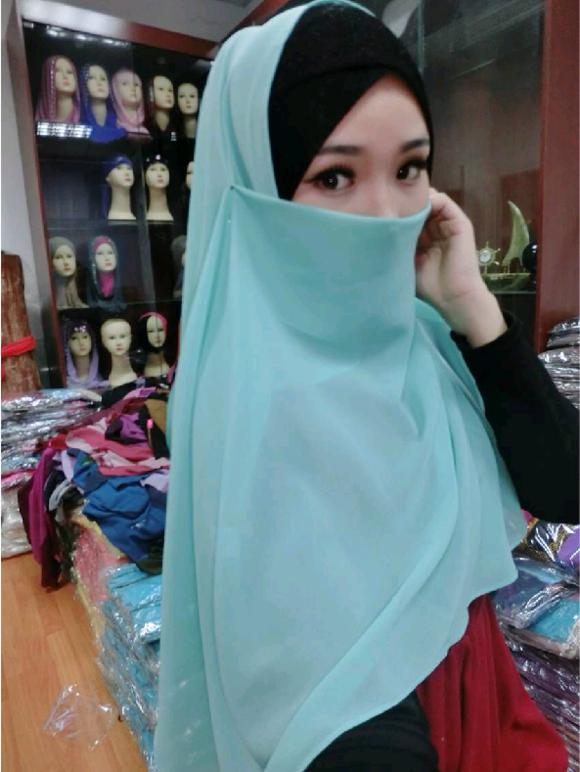WRONG: (269, 130, 448, 309)
